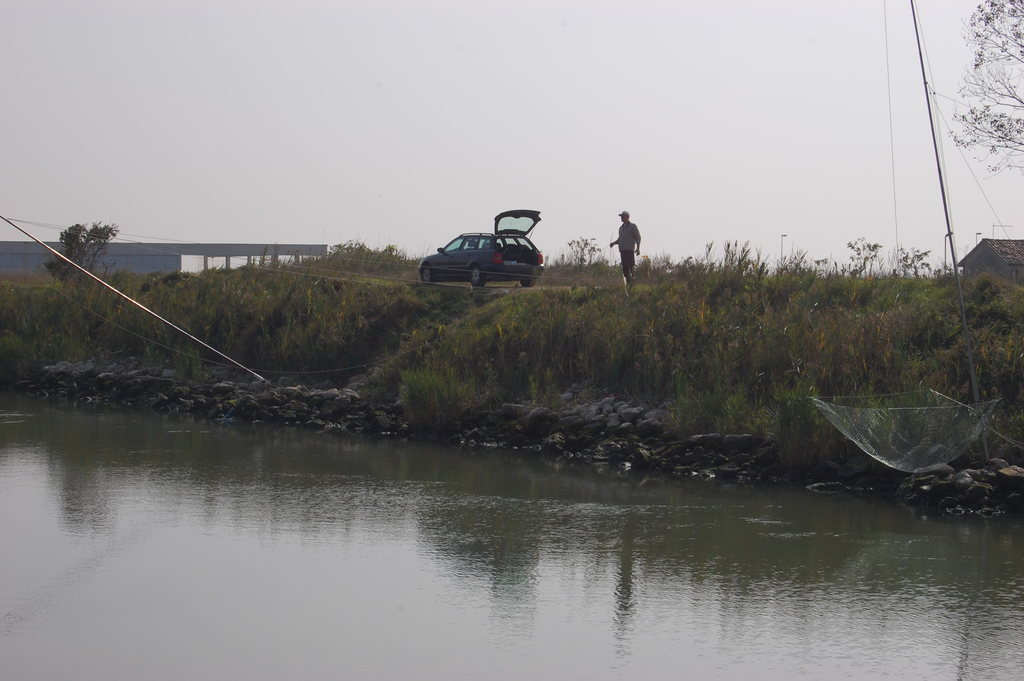Tree: (919, 0, 1023, 190), (46, 204, 117, 285)
